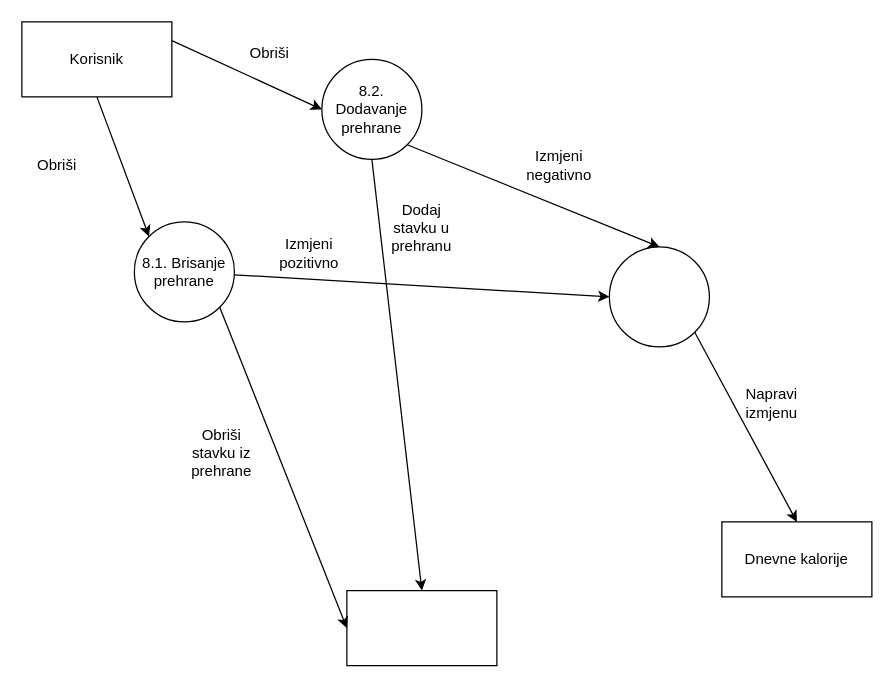
This 894x688 diagram has some shape labels left out. Here are the shapes that lost their labels. From the top down, the box of each, then its label:
(608, 246, 709, 347): 8.3 Izmjena kalorija
(346, 589, 497, 666): Prehrana
